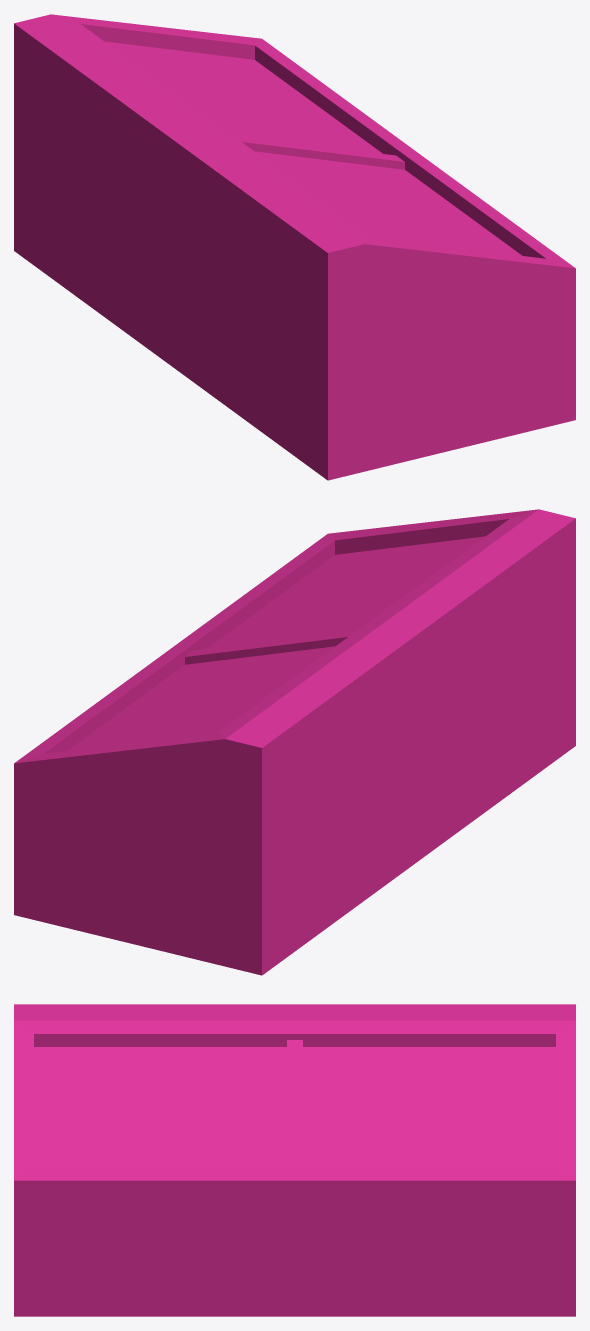
The model's file is SM_Freezer01.fbx.
The picture shows the model from 3 angles, top to bottom: view 1: azimuth 30°, elevation 25°; view 2: azimuth 150°, elevation 25°; view 3: azimuth 270°, elevation 25°; orthographic projection. The views are drawn at different scales.
Visible parts, largest first — view 1: SM_Freezer_01; view 2: SM_Freezer_01; view 3: SM_Freezer_01.
Part boxes in pixels (box(x1,y1,x2,y2)): SM_Freezer_01: box(14, 14, 575, 480); SM_Freezer_01: box(14, 509, 575, 975); SM_Freezer_01: box(14, 1004, 575, 1316).
Bounding box in the file's own units: 91.3 × 80 × 200.
